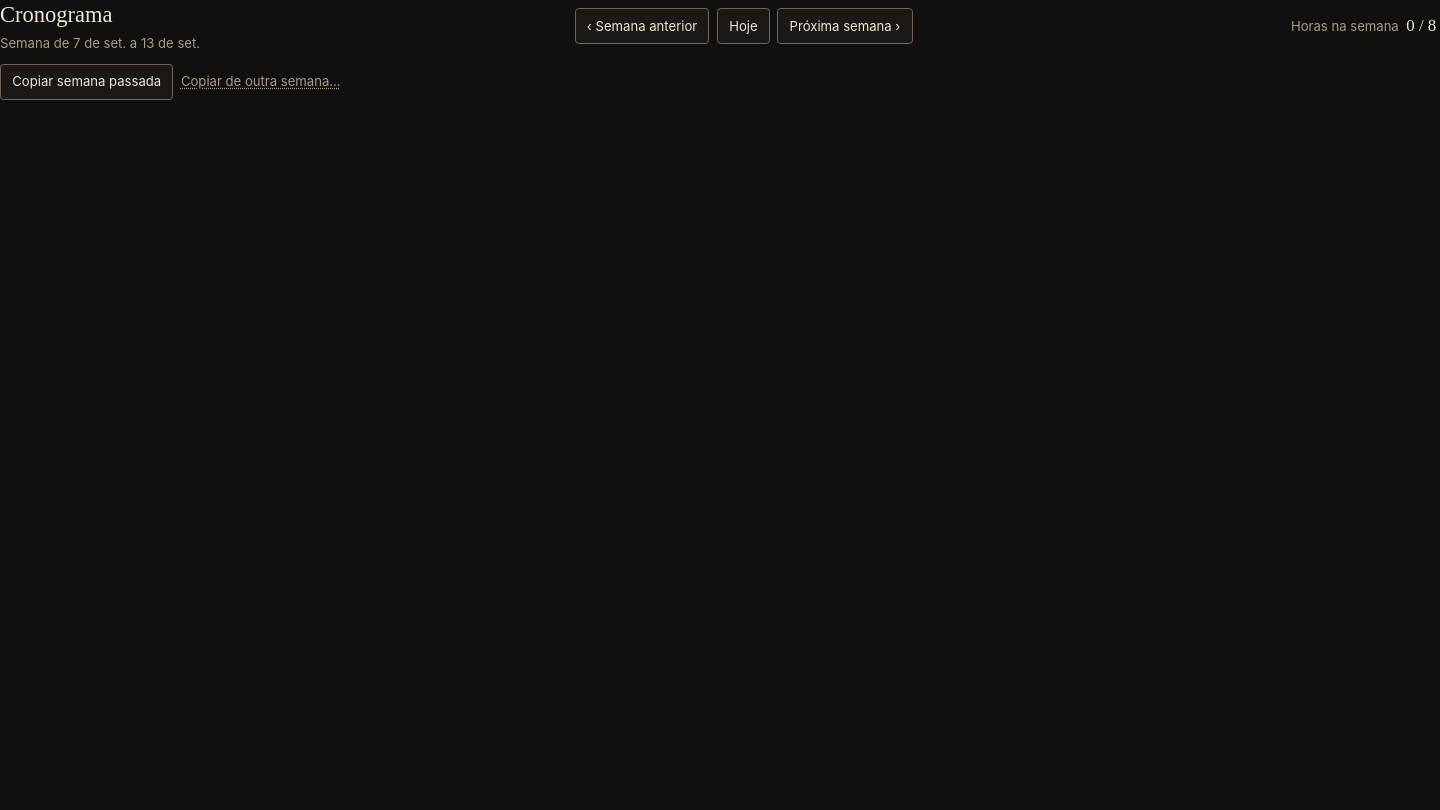
CabecalhoDeSemana — semana modelo › erro ao copiar vira mensagem visível, e o diálogo continua aberto
Click the button "Copiar semana passada" at (87, 82), box [0,64,173,100]
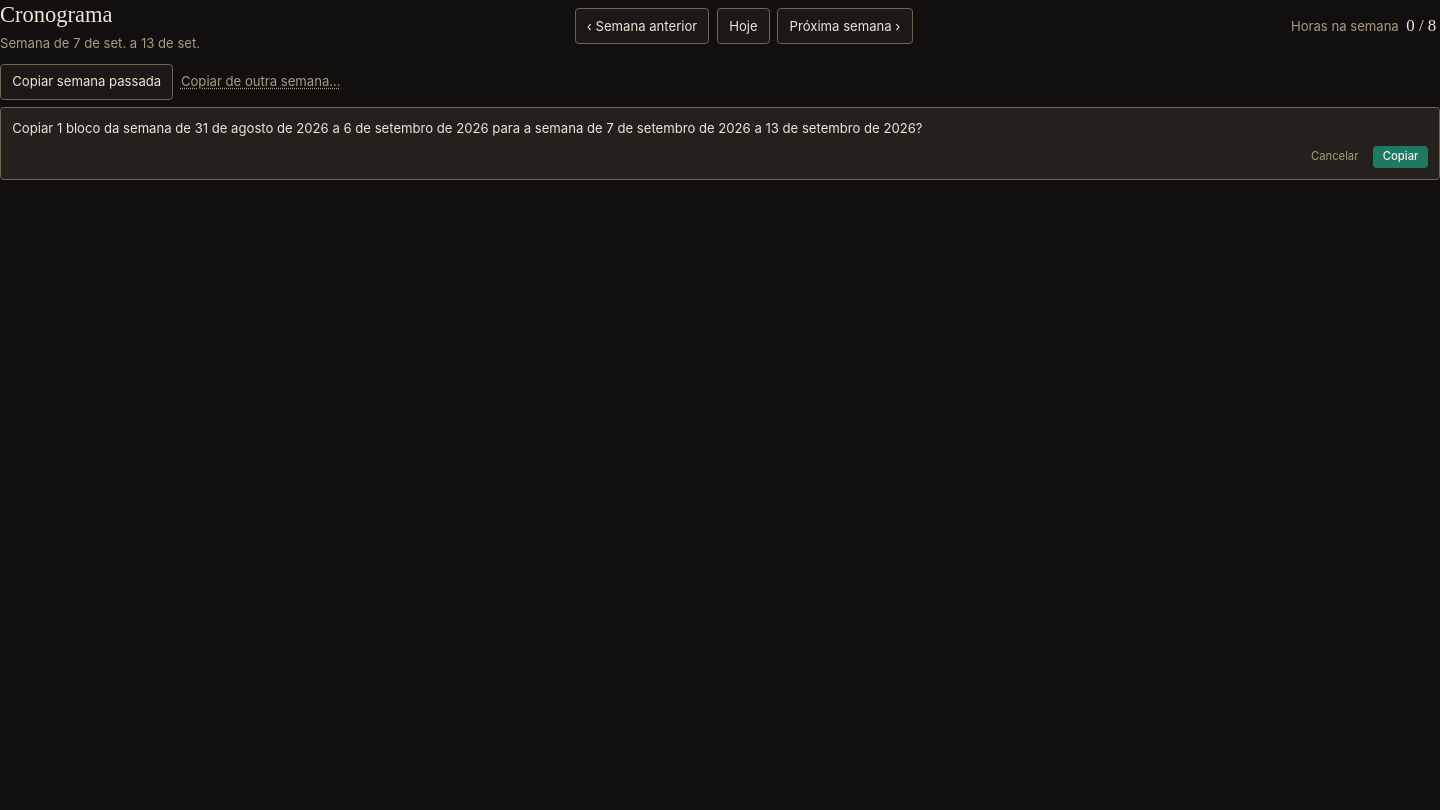
Expected: the dialog is shown, [0,107,1439,180]
Click the button "Copiar" at (1401, 157), box [1373,146,1428,168]
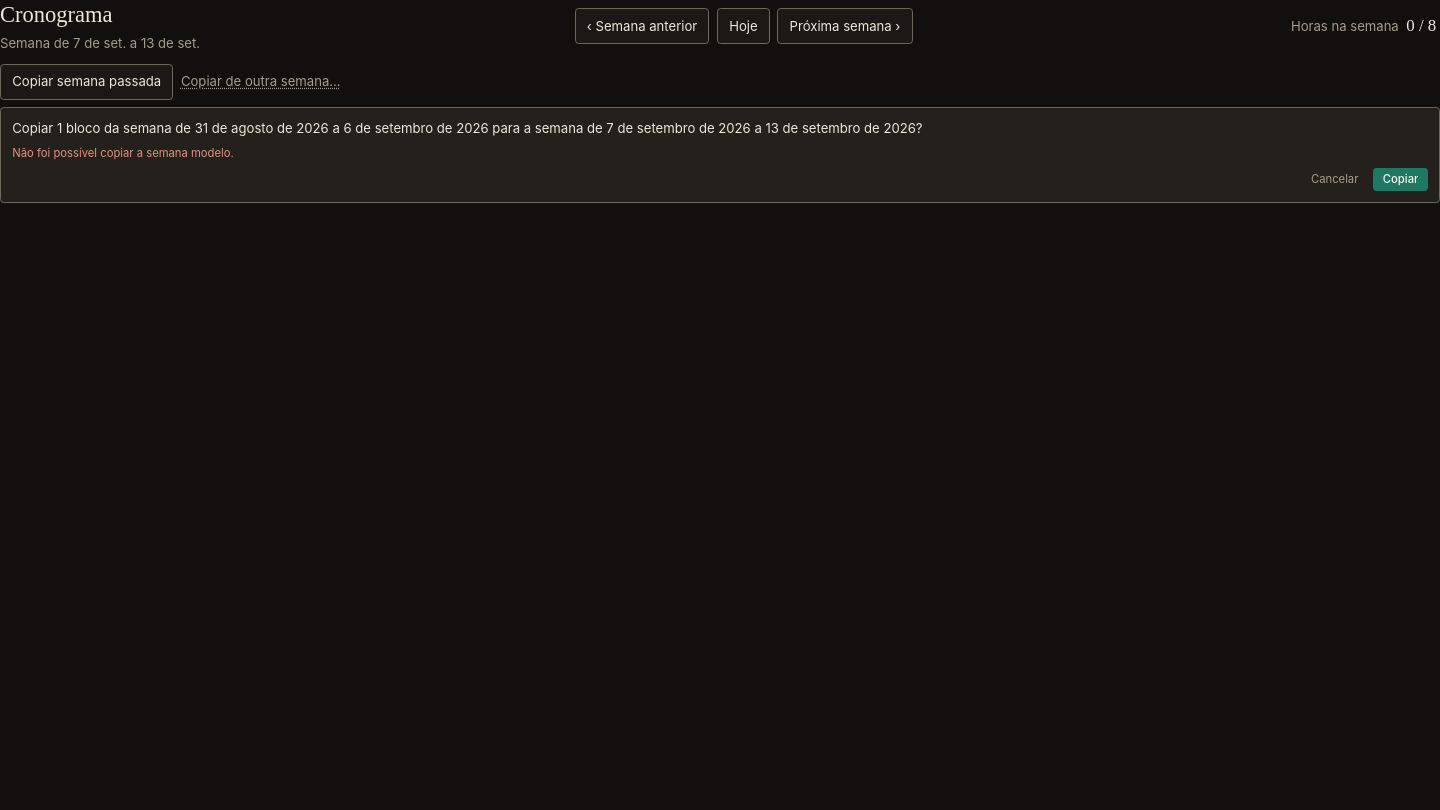
Expected: the dialog is shown, [0,107,1439,203]
Expected: the message reads "Não foi possível copiar a semana modelo.", [12,146,234,160]
